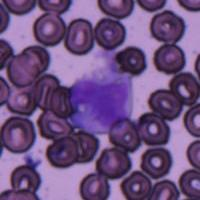M: (66, 70, 134, 134)
